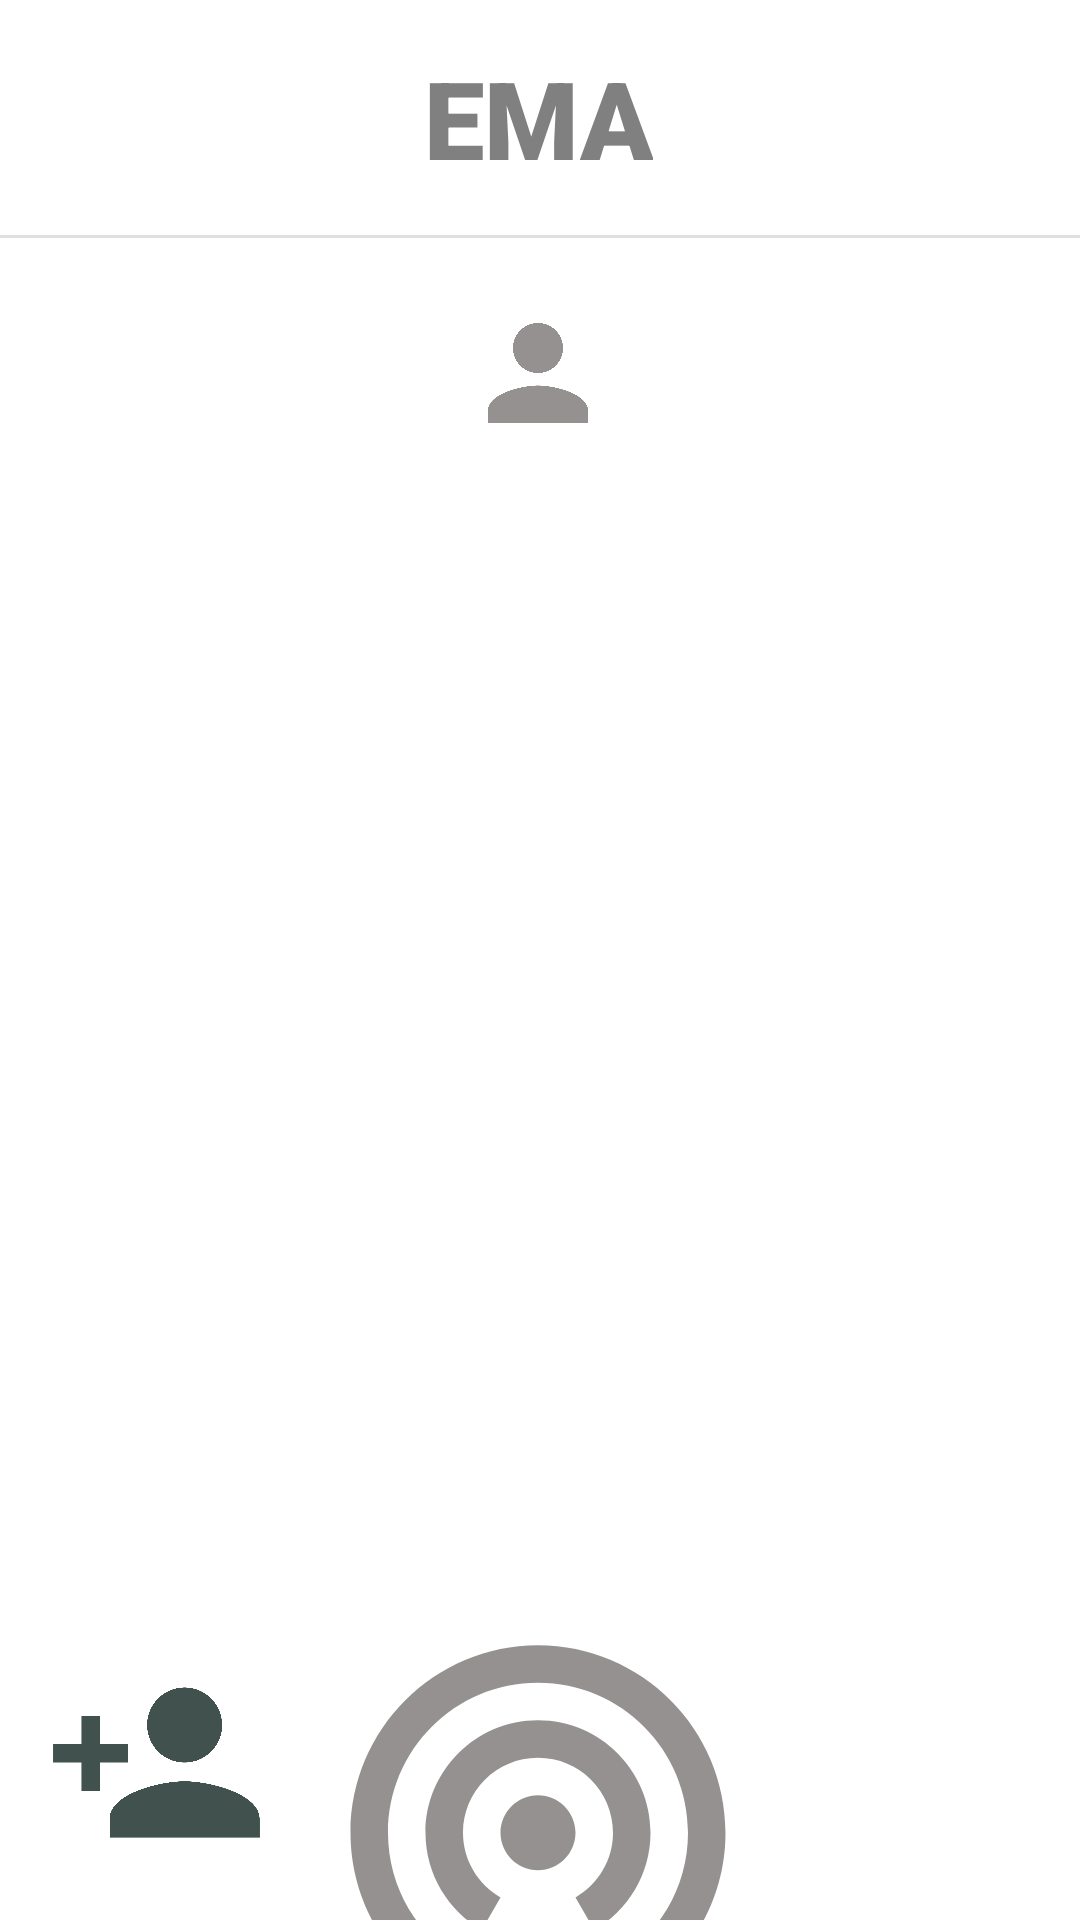

Screen size 1080w x 1920h. Icon name, then its box in pixels as Rect(x1, y1, x2, y2):
addcontact: Rect(53, 1687, 260, 1838)
